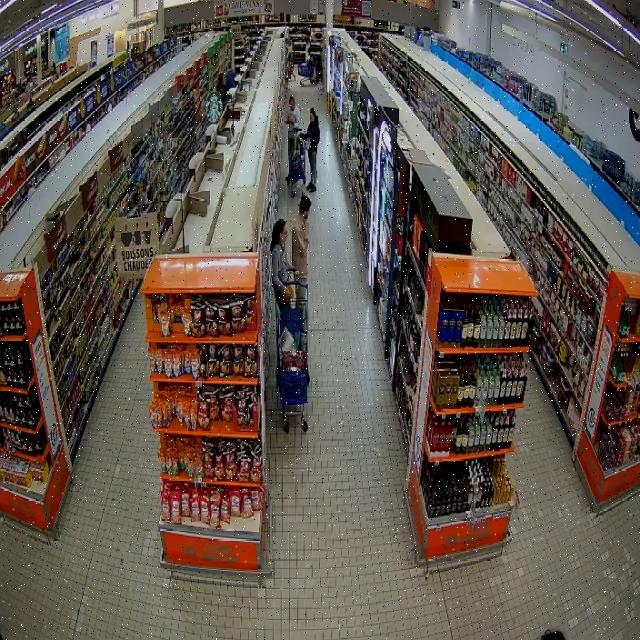hands: (282, 287, 294, 297)
person: (271, 220, 294, 303), (291, 196, 311, 283), (305, 108, 319, 191), (285, 96, 300, 130)
